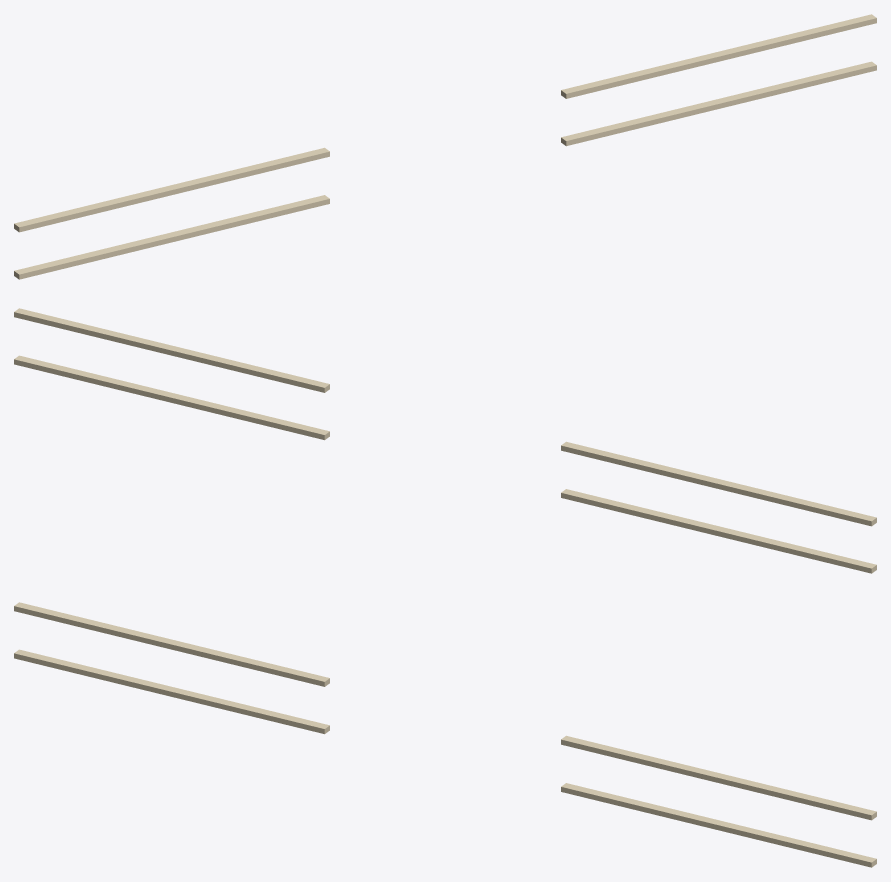
File: FarArcade_Trim.fbx
The picture shows the model from 3 angles, top to bottom: view 1: azimuth 30°, elevation 25°; view 2: azimuth 150°, elevation 25°; view 3: azimuth 330°, elevation 25°; orthographic projection.
Visible parts, largest first — view 1: FarCornice-10.001; view 2: FarCornice-10.001; view 3: FarCornice-10.001.
Part boxes in pixels (x1,y1,x2,y2): FarCornice-10.001: (14,14,876,279); FarCornice-10.001: (14,308,876,573); FarCornice-10.001: (14,602,876,867).
Bounding box in the file's own units: 24700 × 1440 × 260.
